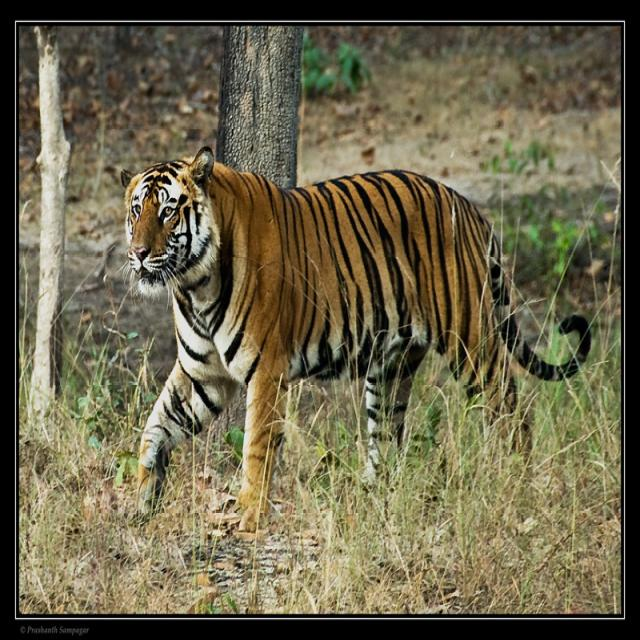Tiger: (118, 147, 590, 525)
